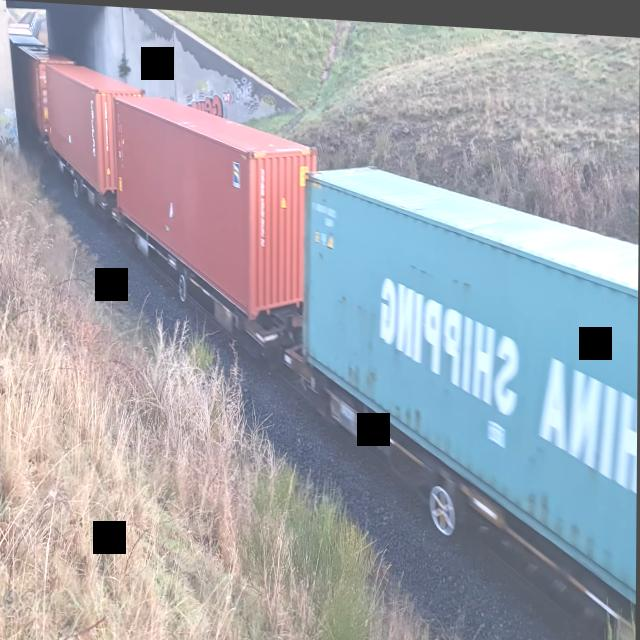container: (303, 150, 639, 587), (107, 84, 311, 352)
